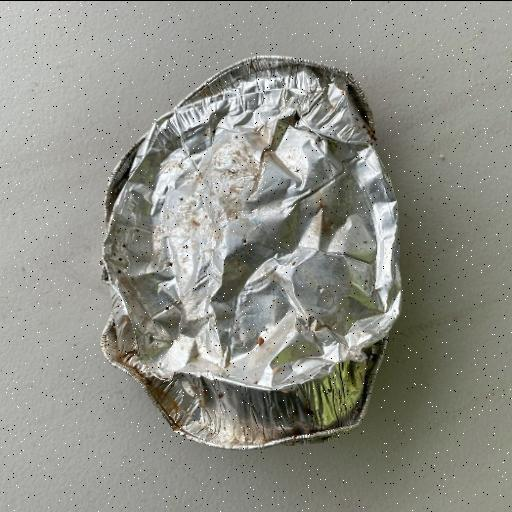Metal: (98, 54, 402, 450)
